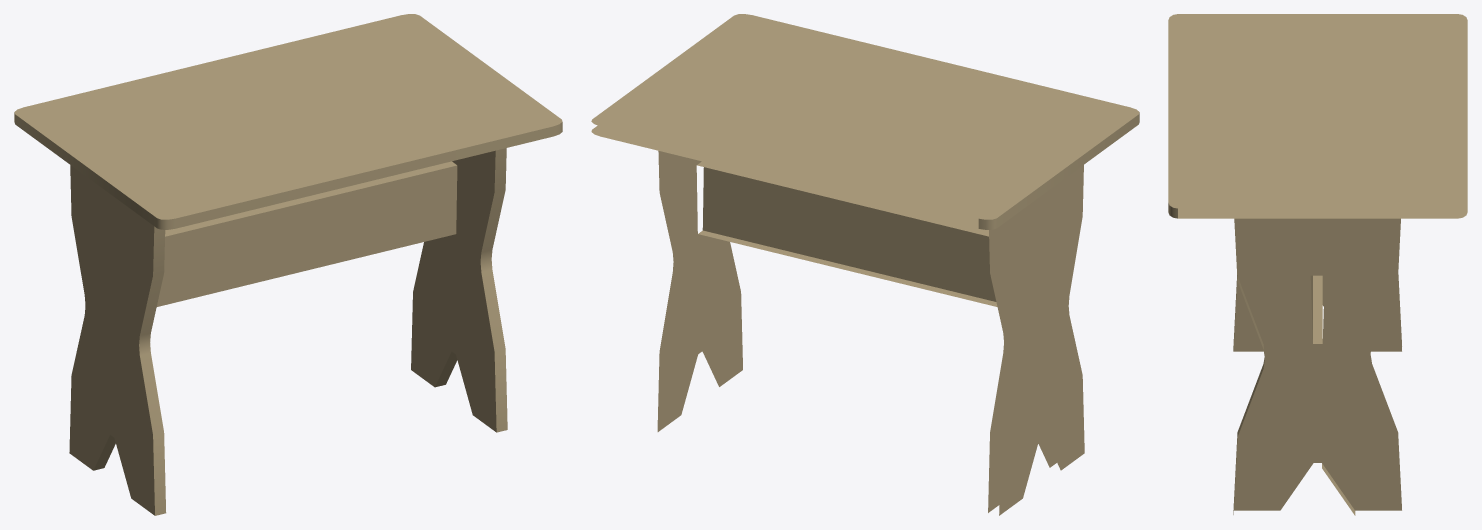
The model's file is Strange Table #2.fbx.
3 renders of one model, left to right at view 1: azimuth 30°, elevation 25°; view 2: azimuth 150°, elevation 25°; view 3: azimuth 270°, elevation 25°, orthographic.
Visible parts, largest first — view 1: Cube.021; view 2: Cube.021; view 3: Cube.021.
Boxes of the visible parts, left/top/right/bottom form: Cube.021: left=14, top=14, right=562, bottom=515; Cube.021: left=591, top=14, right=1139, bottom=515; Cube.021: left=1168, top=14, right=1467, bottom=515.
Size of the model in its own units: 313 by 240 by 203.
